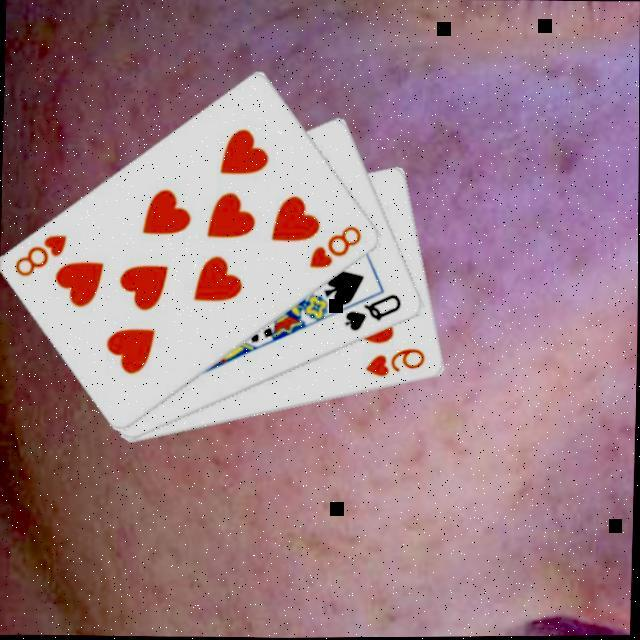8H: (308, 221, 367, 272), (13, 228, 72, 279)
9H: (363, 343, 430, 380)
QS: (343, 289, 407, 334)
